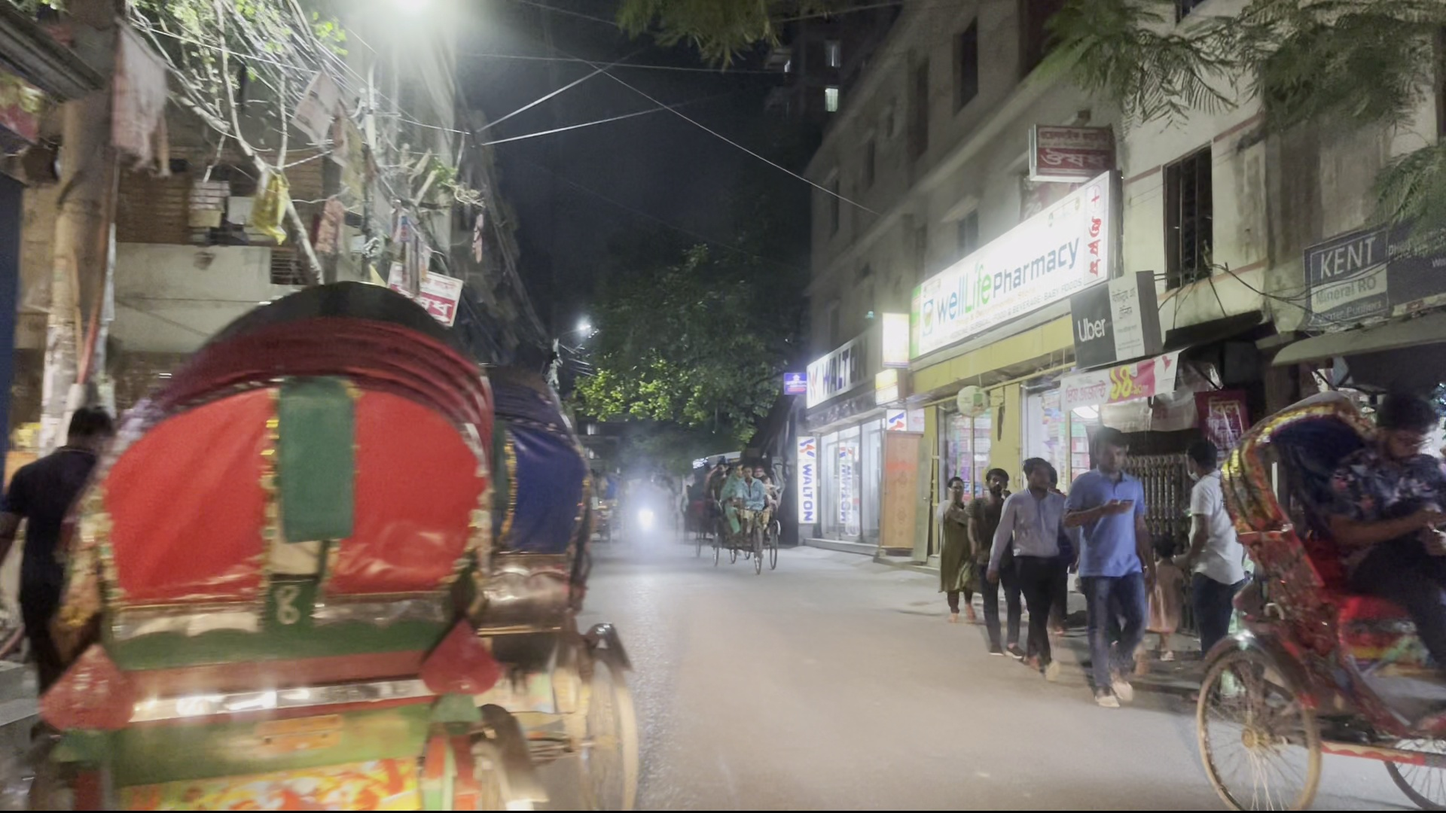person: (1063, 424, 1155, 709), (1171, 435, 1250, 672), (1002, 454, 1070, 683), (966, 466, 1027, 661), (934, 474, 975, 625)
